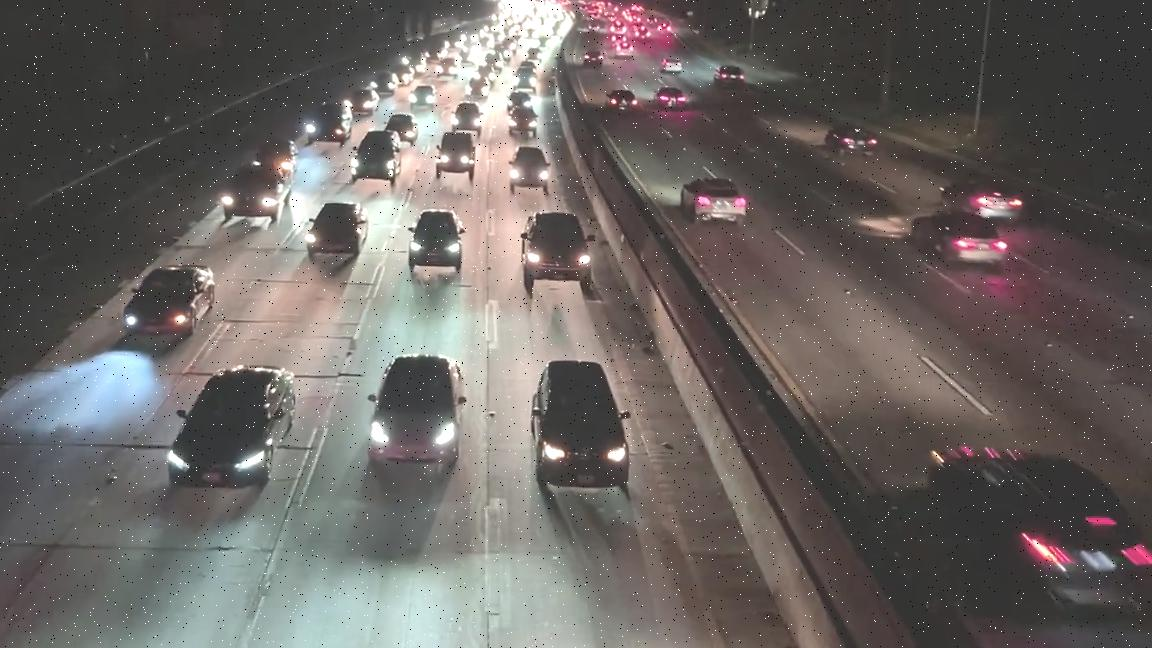car: (925, 442, 1152, 624), (163, 362, 296, 488), (535, 354, 639, 490), (364, 354, 473, 467), (115, 260, 221, 335), (519, 213, 594, 289), (918, 216, 1015, 266), (409, 205, 465, 272), (304, 200, 369, 256), (224, 167, 296, 216), (941, 178, 1022, 220), (679, 177, 748, 226), (350, 126, 403, 187), (432, 132, 481, 179), (503, 145, 552, 188), (825, 125, 880, 156), (450, 101, 482, 134), (659, 88, 694, 109), (604, 90, 636, 111), (713, 65, 744, 85), (409, 85, 436, 107), (660, 57, 683, 74)
